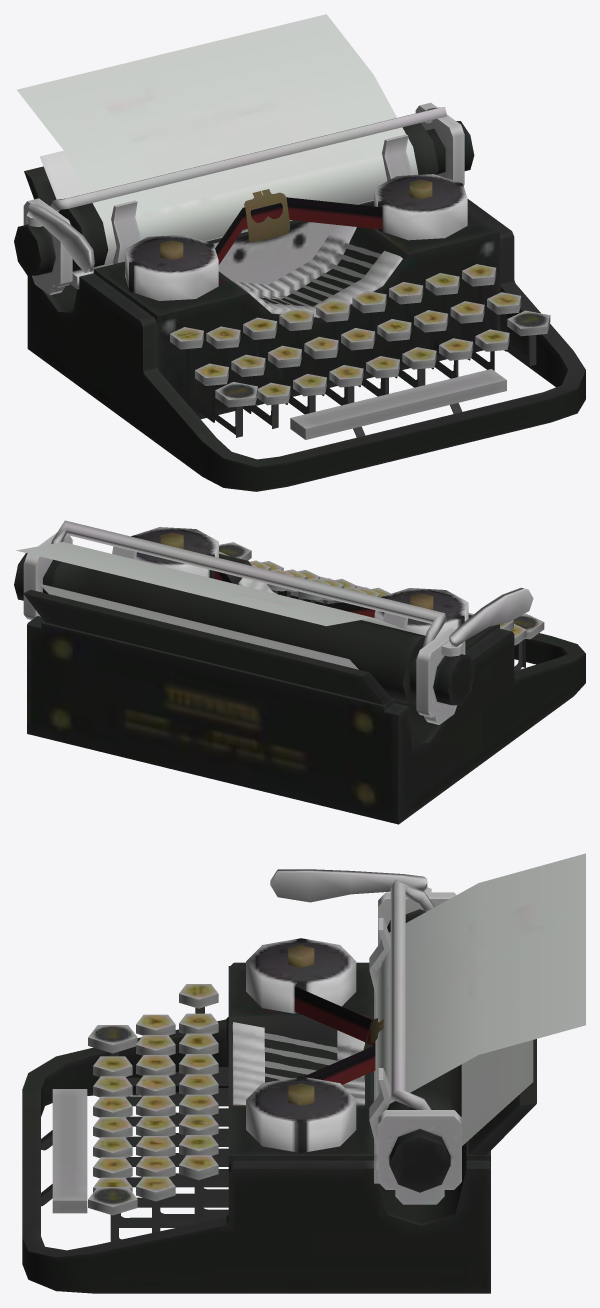
3 views of the same model, one above another, from view 1: azimuth 30°, elevation 25°; view 2: azimuth 150°, elevation 25°; view 3: azimuth 270°, elevation 25° (orthographic). The views are drawn at different scales.
Size of the model in its own units: 7.22 by 3.47 by 7.16.
2 materials, 2 textured.
